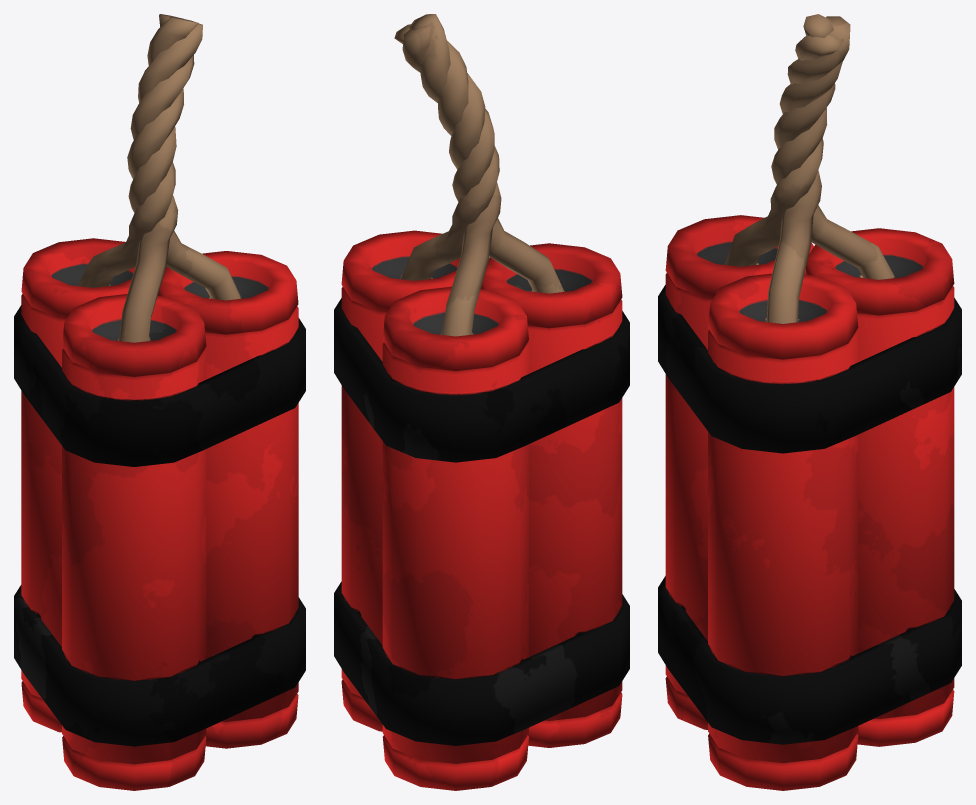
The model's file is little_explosives_-_dynamite.glb.
3 renders of one model, left to right at view 1: azimuth 30°, elevation 25°; view 2: azimuth 150°, elevation 25°; view 3: azimuth 270°, elevation 25°, orthographic. The views are drawn at different scales.
Visible parts, largest first — view 1: LE_Dynamite; view 2: LE_Dynamite; view 3: LE_Dynamite.
Boxes of the visible parts, left/top/right/bottom form: LE_Dynamite: left=14, top=14, right=305, bottom=790; LE_Dynamite: left=334, top=14, right=629, bottom=790; LE_Dynamite: left=658, top=14, right=961, bottom=790.
Bounding box in the file's own units: 1.42 × 3.79 × 1.43.
1 material, 1 textured.
